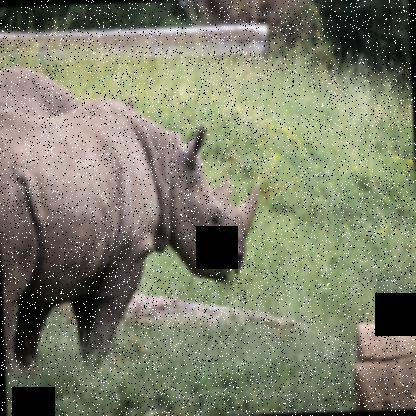Diceros bicornis: (0, 57, 267, 378)
